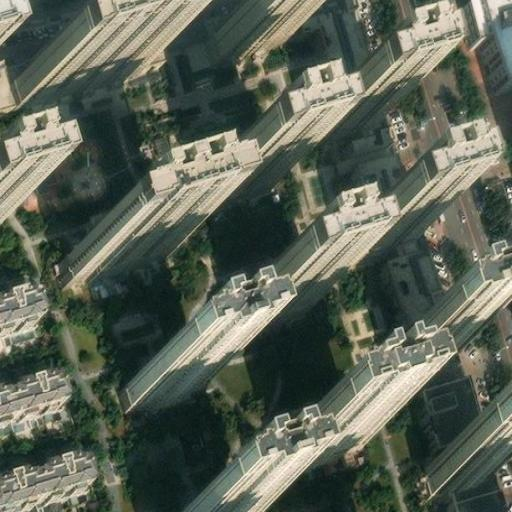building: (362, 144, 454, 335), (9, 33, 150, 104), (67, 215, 178, 277), (422, 368, 489, 458), (282, 404, 374, 463), (0, 453, 87, 507), (128, 350, 213, 405), (203, 146, 280, 201), (213, 1, 286, 58), (312, 83, 383, 139), (239, 269, 315, 320), (348, 205, 419, 259), (395, 316, 465, 368), (430, 439, 501, 490), (0, 371, 62, 415), (454, 472, 508, 512), (183, 489, 252, 512), (189, 19, 228, 56), (0, 286, 37, 324)
